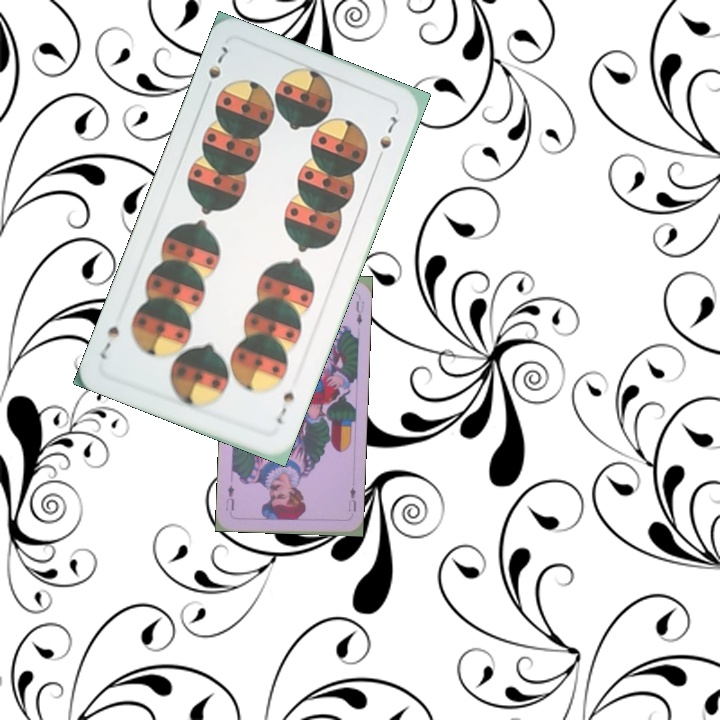EU: (344, 483, 358, 514)
S7: (200, 42, 231, 97), (272, 387, 297, 427)
